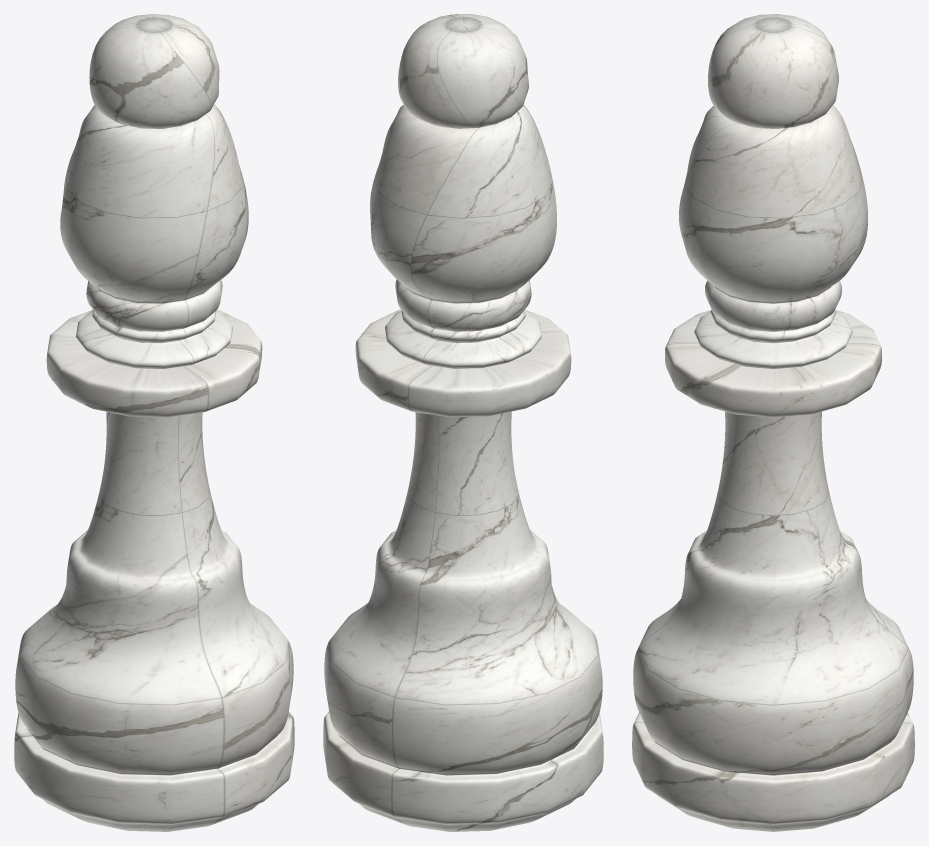
The model's file is ChessBauer.fbx.
3 views of the same model, side by side, from view 1: azimuth 30°, elevation 25°; view 2: azimuth 150°, elevation 25°; view 3: azimuth 270°, elevation 25° (orthographic).
Visible parts, largest first — view 1: NurbsPath.001; view 2: NurbsPath.001; view 3: NurbsPath.001.
Part boxes in pixels (bbox=[...]): NurbsPath.001: bbox=[14, 14, 294, 831]; NurbsPath.001: bbox=[323, 14, 603, 831]; NurbsPath.001: bbox=[632, 14, 914, 831].
Size of the model in its own units: 82.27 by 249 by 82.27.
